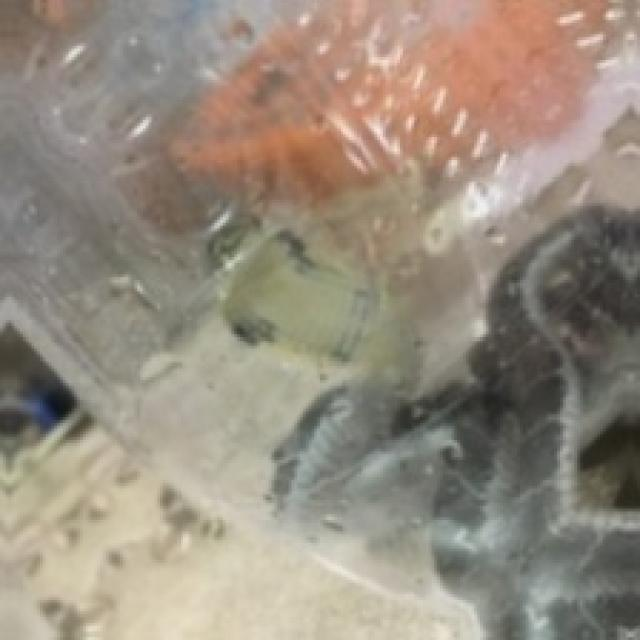king cobra: (212, 205, 640, 640)
